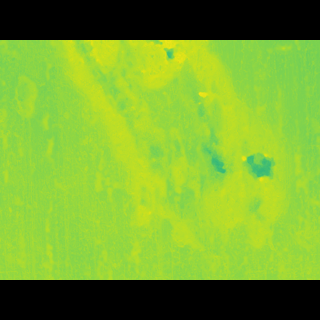Loch: (61, 68, 319, 229)
